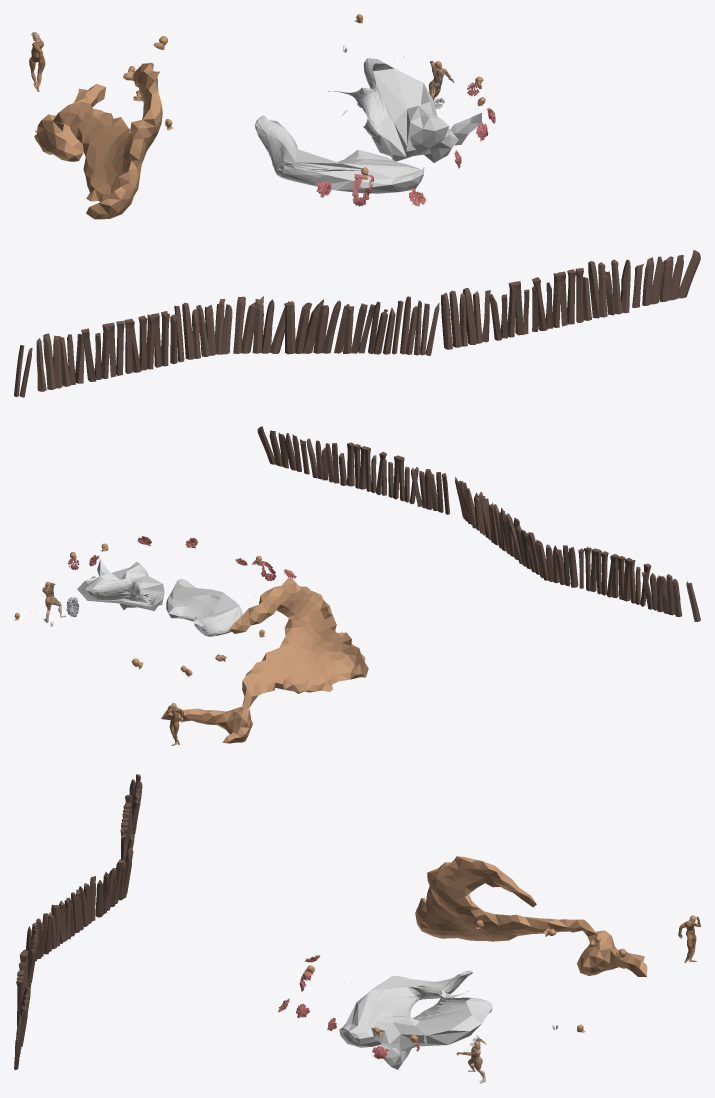
3 renders of one model, top to bottom at view 1: azimuth 30°, elevation 25°; view 2: azimuth 150°, elevation 25°; view 3: azimuth 270°, elevation 25°, orthographic. The views are drawn at different scales.
Size of the model in its own units: 33.28 by 7.2 by 35.8.
